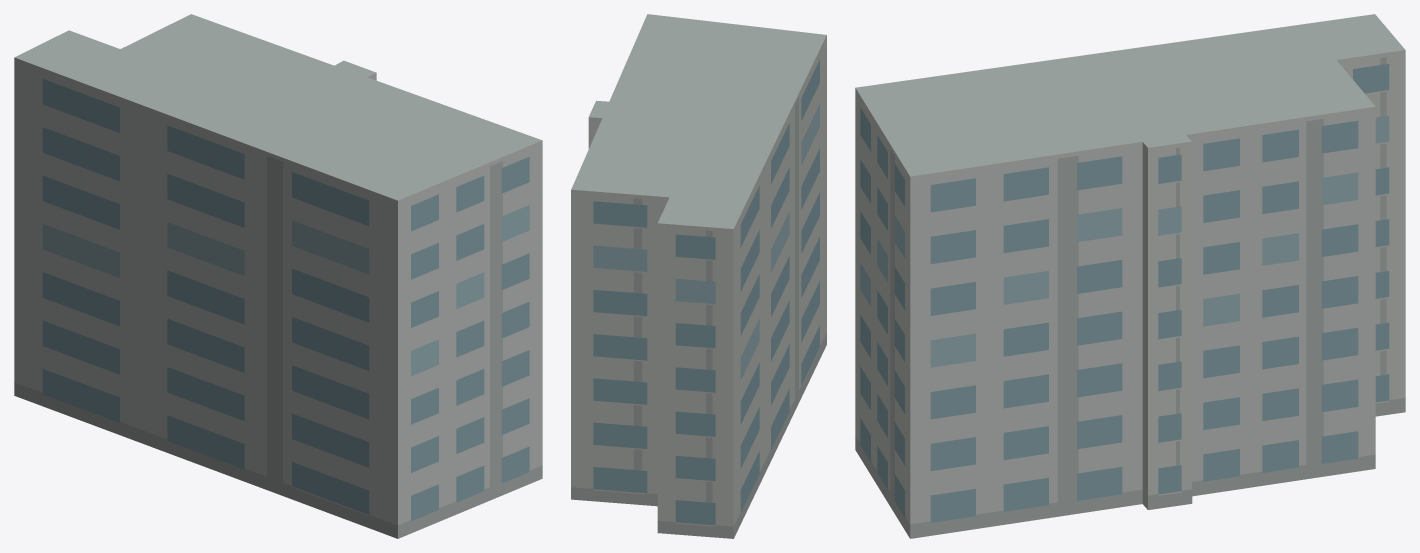
Rendered from survey-upis-32840511.glb.
3 renders of one model, left to right at view 1: azimuth 30°, elevation 25°; view 2: azimuth 150°, elevation 25°; view 3: azimuth 270°, elevation 25°, orthographic. The views are drawn at different scales.
Visible parts, largest first — view 1: survey-upis-32840511.tmp; view 2: survey-upis-32840511.tmp; view 3: survey-upis-32840511.tmp.
Part boxes in pixels (x1,y1,x2,y2): survey-upis-32840511.tmp: [14, 14, 542, 538]; survey-upis-32840511.tmp: [571, 14, 826, 538]; survey-upis-32840511.tmp: [855, 14, 1405, 538].
Size of the model in its own units: 19.99 by 20.75 by 28.57.
